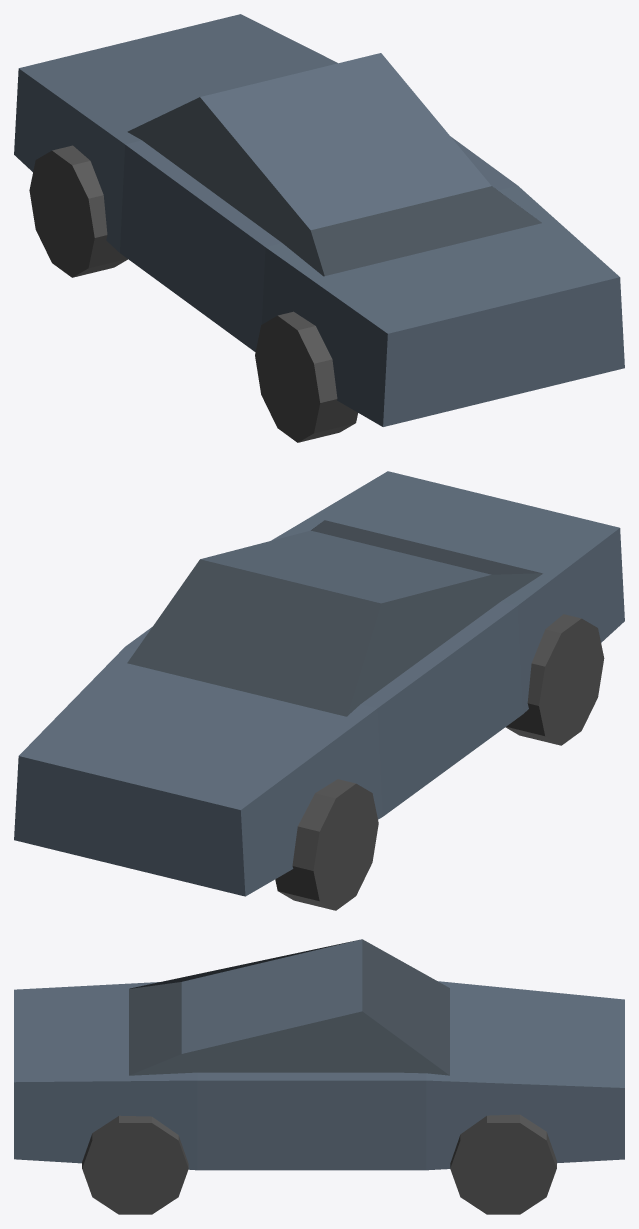
3 renders of one model, top to bottom at view 1: azimuth 30°, elevation 25°; view 2: azimuth 150°, elevation 25°; view 3: azimuth 270°, elevation 25°, orthographic. The views are drawn at different scales.
Visible parts, largest first — view 1: bmw_x6_body, bmw_x6_Wheel_RL, bmw_x6_Wheel_FL; view 2: bmw_x6_body, bmw_x6_Wheel_FL, bmw_x6_Wheel_RL; view 3: bmw_x6_body, bmw_x6_Wheel_FR, bmw_x6_Wheel_RR.
Boxes of the visible parts, x1=… form: bmw_x6_body: x1=14, y1=14, x2=624, y2=426; bmw_x6_Wheel_RL: x1=255, y1=311, x2=357, y2=442; bmw_x6_Wheel_FL: x1=29, y1=145, x2=127, y2=277; bmw_x6_body: x1=14, y1=471, x2=624, y2=896; bmw_x6_Wheel_FL: x1=275, y1=779, x2=378, y2=910; bmw_x6_Wheel_RL: x1=505, y1=614, x2=604, y2=745; bmw_x6_body: x1=14, y1=939, x2=624, y2=1170; bmw_x6_Wheel_FR: x1=450, y1=1114, x2=556, y2=1214; bmw_x6_Wheel_RR: x1=82, y1=1115, x2=188, y2=1214.
Size of the model in its own units: 2.16 by 1.63 by 4.93.
